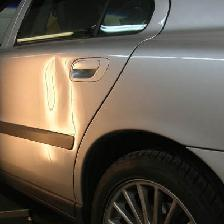door_dent: (18, 50, 115, 167)
